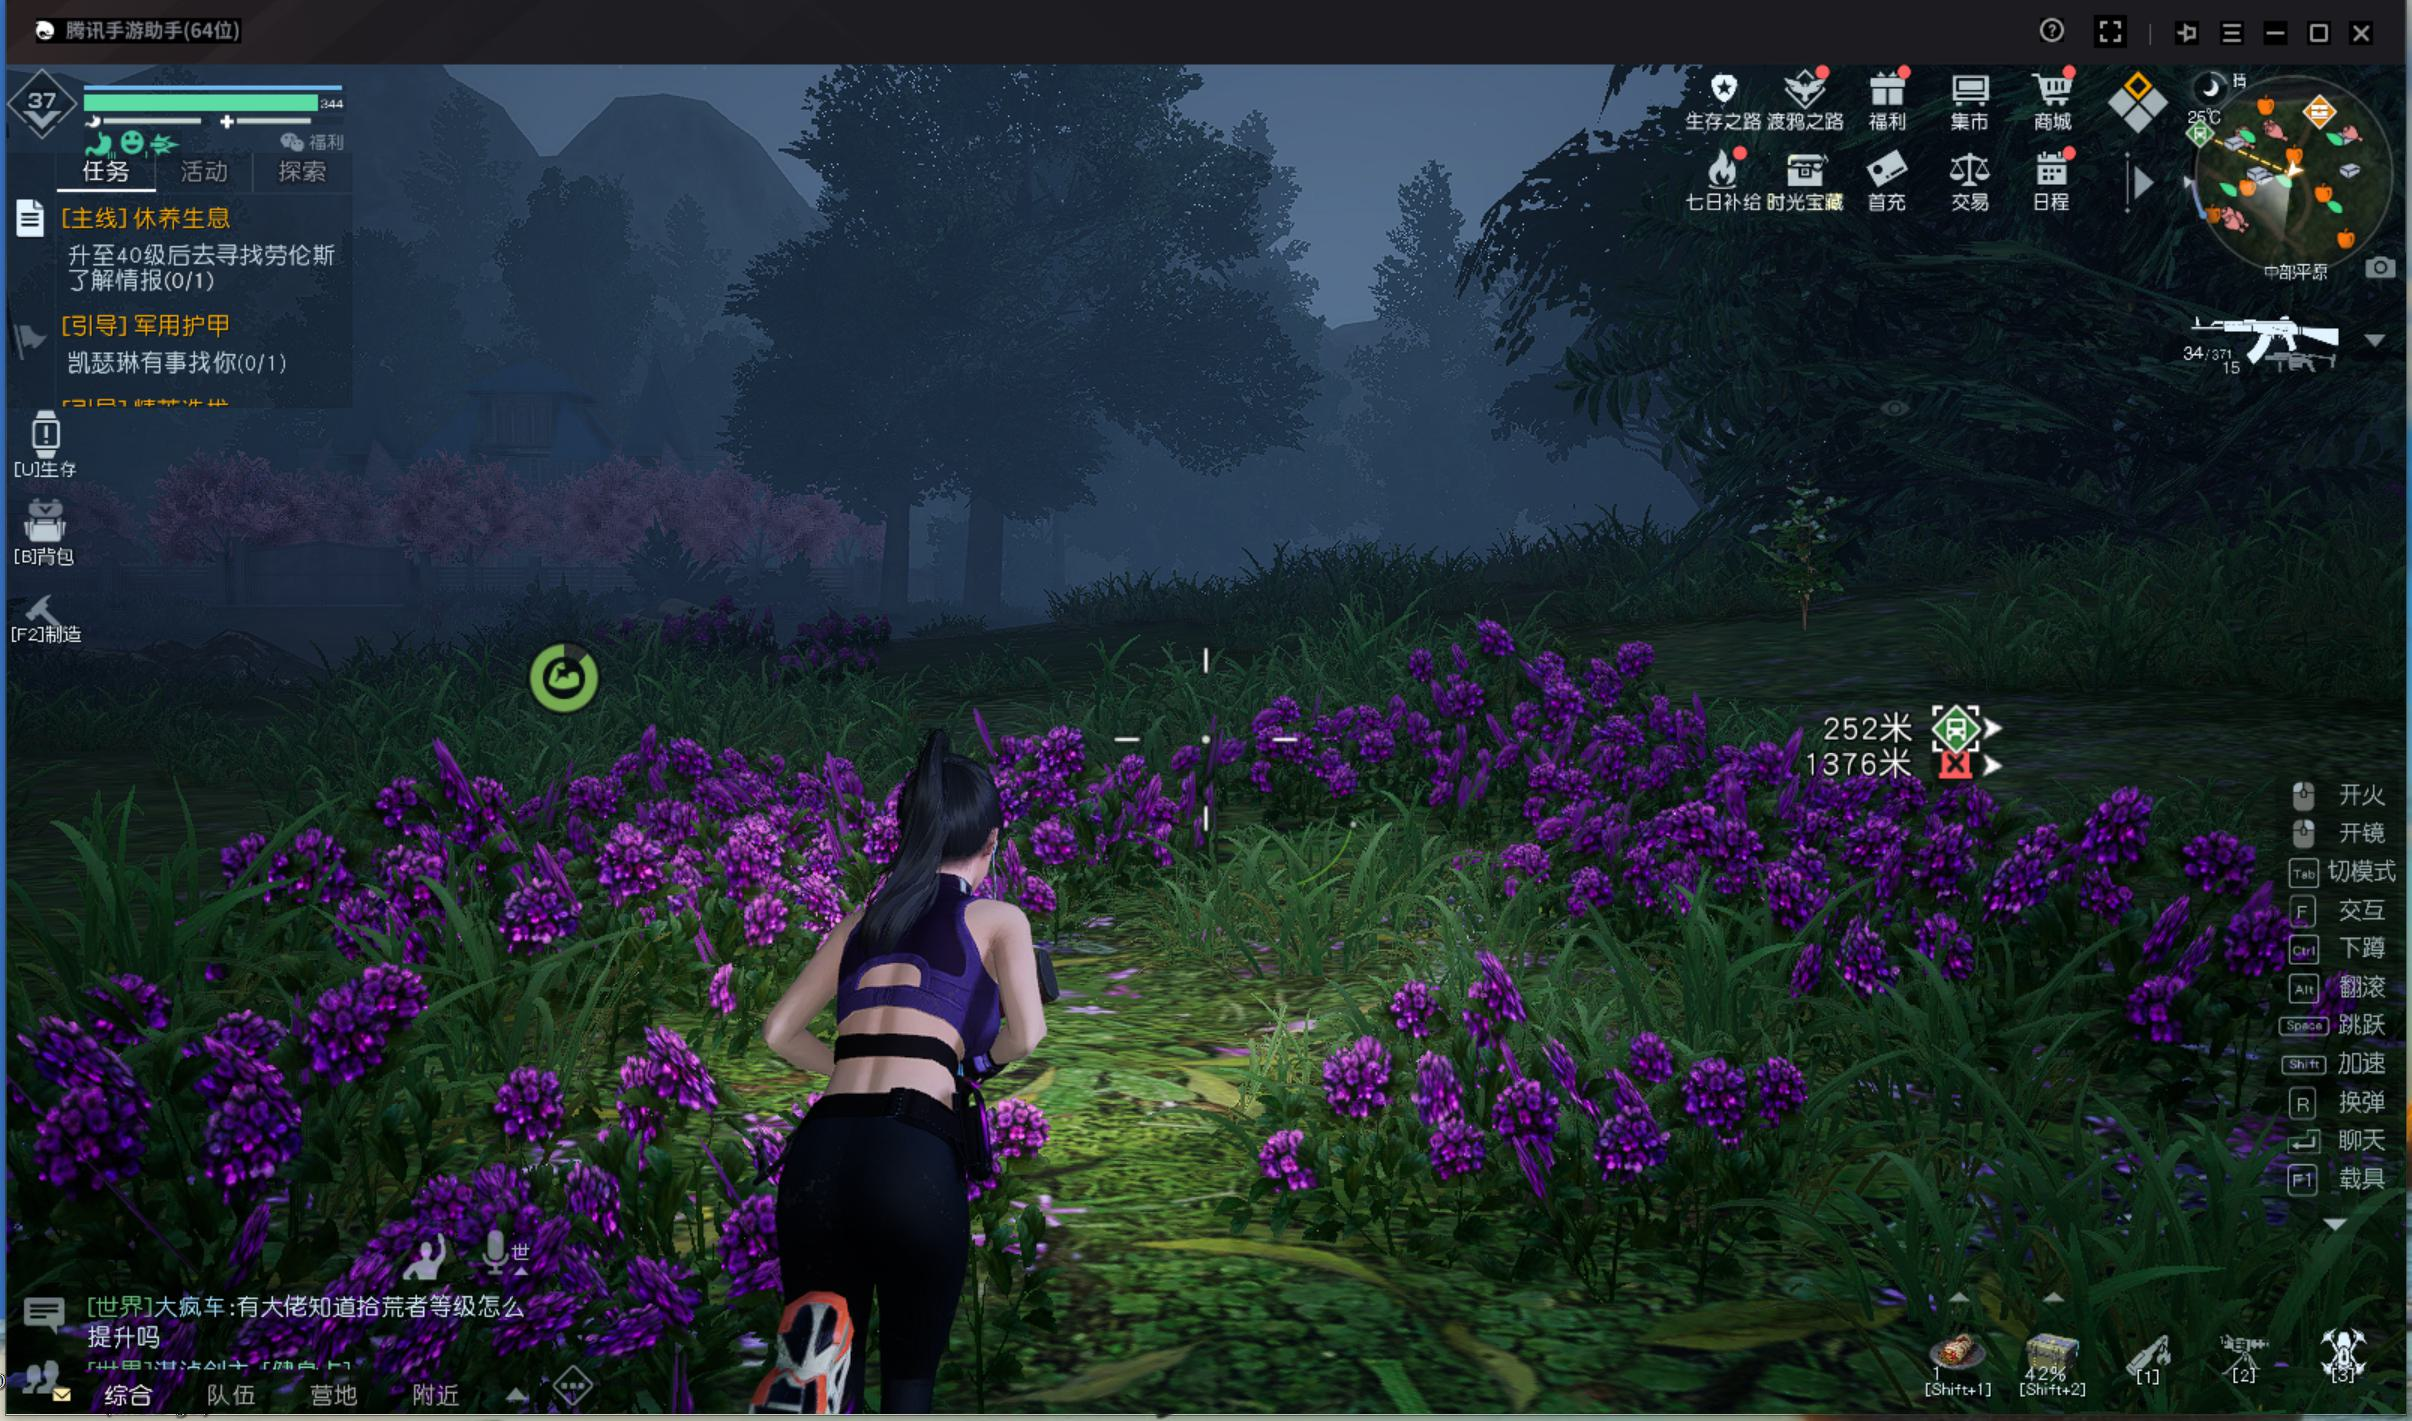tree: (961, 502, 1005, 626), (880, 509, 917, 623)
